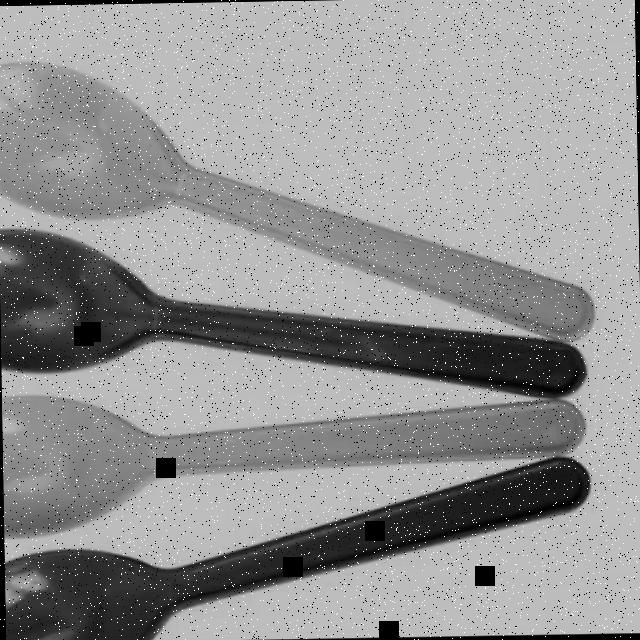plastic_spoon: (0, 35, 601, 640)
